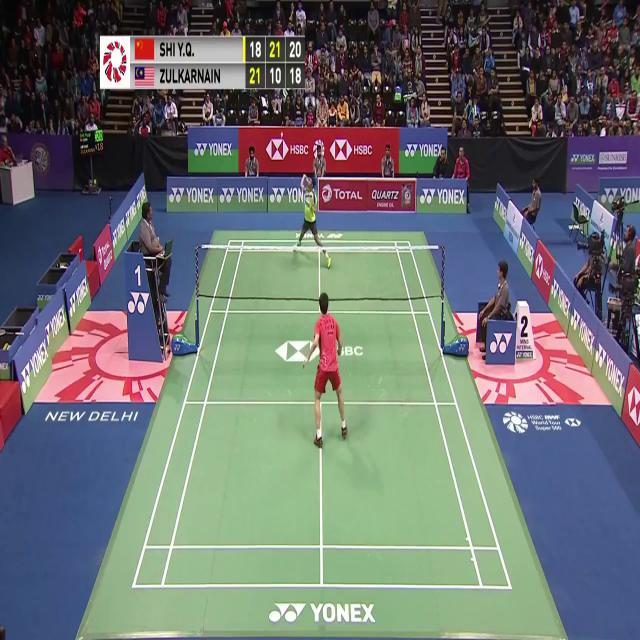Shuttlecock: (279, 131, 285, 143)
